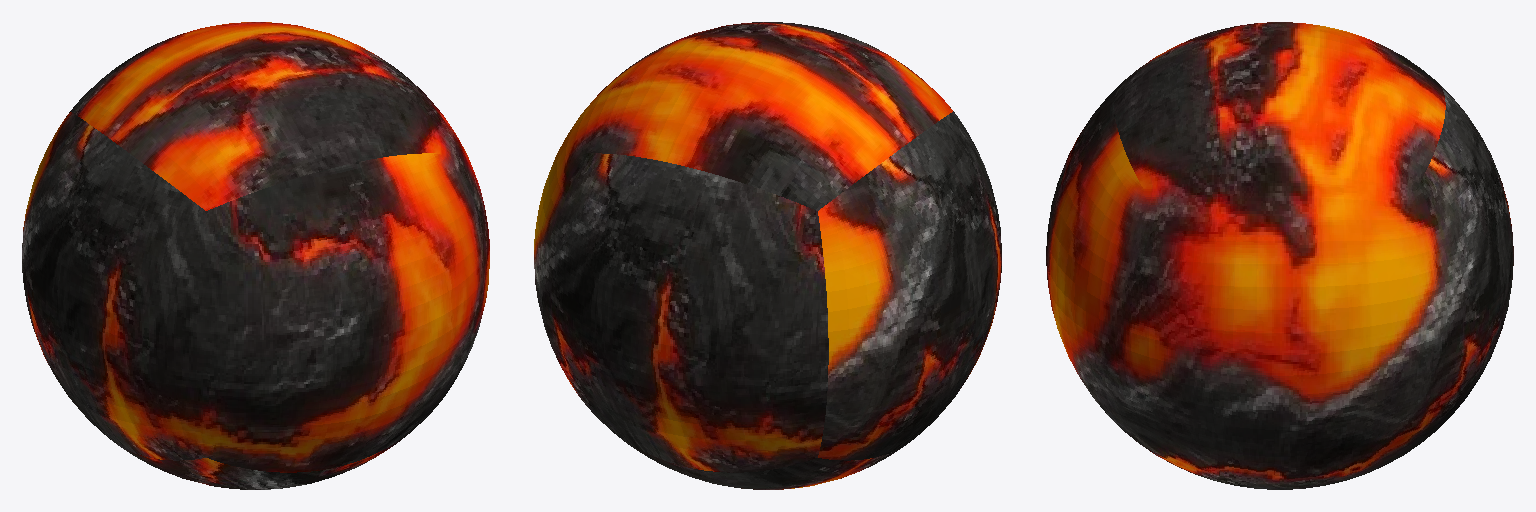
The picture shows the model from 3 angles: view 1: azimuth 30°, elevation 25°; view 2: azimuth 150°, elevation 25°; view 3: azimuth 270°, elevation 25°; orthographic projection.
Visible parts, largest first — view 1: wooden_sphere; view 2: wooden_sphere; view 3: wooden_sphere.
Boxes of the visible parts, x1=… form: wooden_sphere: x1=22, y1=22, x2=489, y2=489; wooden_sphere: x1=534, y1=22, x2=1001, y2=489; wooden_sphere: x1=1046, y1=22, x2=1513, y2=489.
Bounding box in the file's own units: 6.97 × 6.97 × 6.97.
Materials: 1 (1 with a texture image).